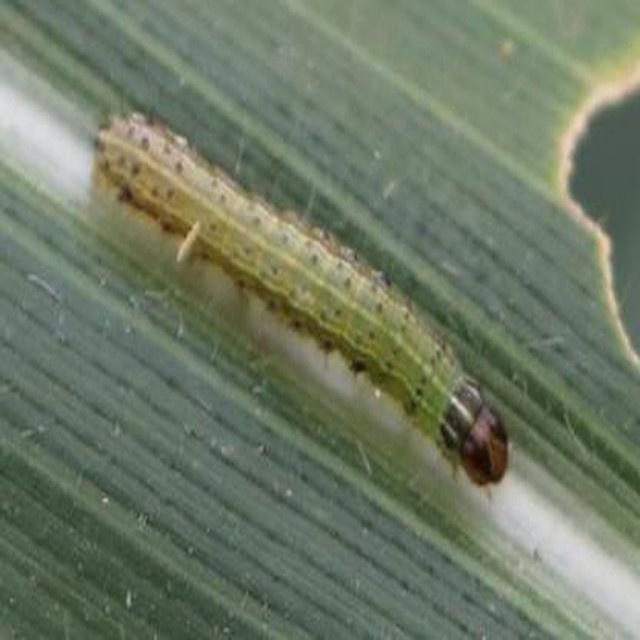gusano_cogollero: (86, 99, 516, 498)
